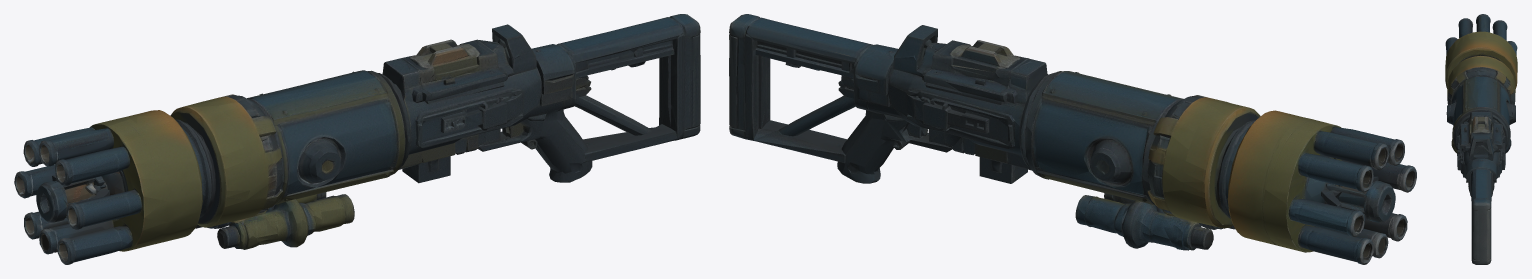
File: minigun.glb
The picture shows the model from 3 angles, left to right: view 1: azimuth 30°, elevation 25°; view 2: azimuth 150°, elevation 25°; view 3: azimuth 270°, elevation 25°; orthographic projection. The views are drawn at different scales.
Visible parts, largest first — view 1: mesh_node; view 2: mesh_node; view 3: mesh_node.
Part boxes in pixels (x1=…): mesh_node: x1=14, y1=14, x2=700, y2=264; mesh_node: x1=729, y1=14, x2=1416, y2=264; mesh_node: x1=1445, y1=14, x2=1517, y2=264.
Size of the model in its own units: 1.9 by 0.4497 by 0.3354.
1 material, 1 textured.
